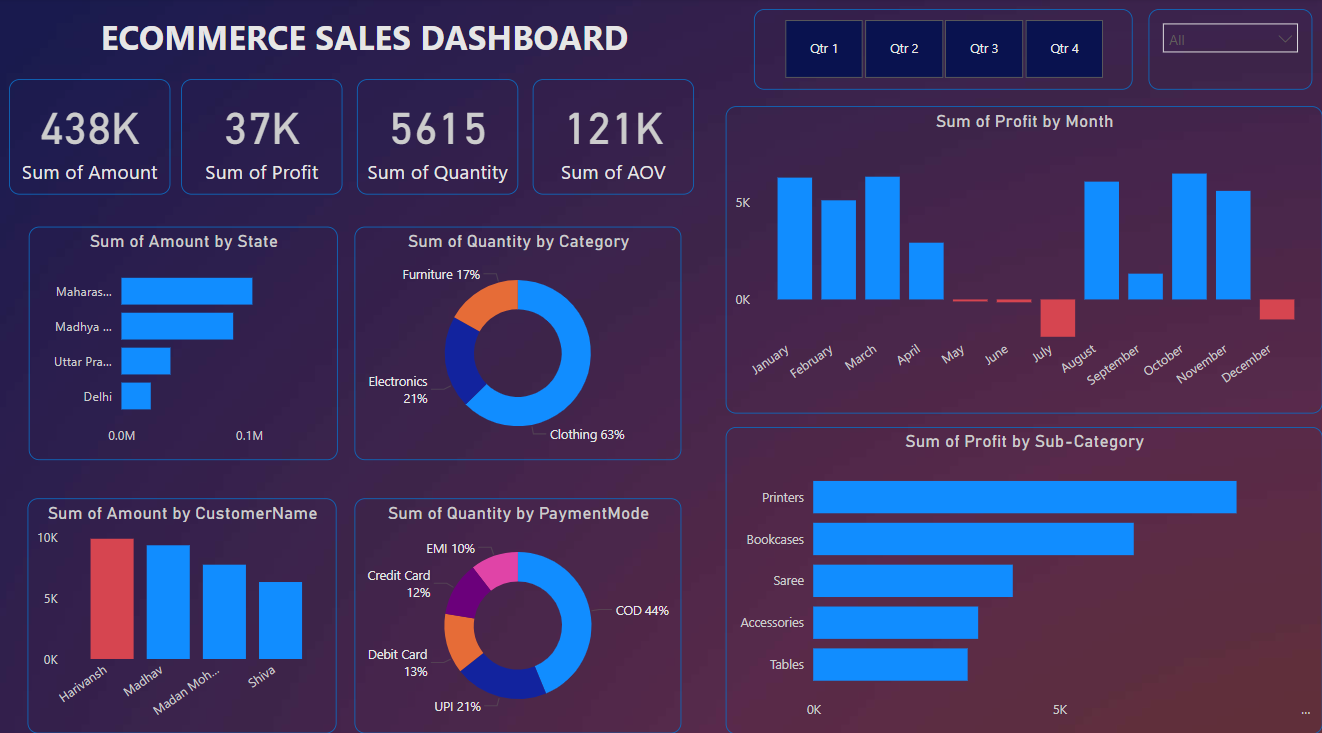

This screenshot's page, from the dashboard's own definition file:
{"tool":"powerbi","page":{"name":"Dashboard","canvas":[1280,720],"ordinal":0},"visuals":[{"type":"textbox","box":[0,10.7,702.4,57.3],"z":0},{"type":"columnChart","fields":{"Y":["Details.Profit"],"Category":["Orders.Order Date.Variation.Date Hierarchy.Month"]},"box":[697,104,571.8,294.5],"z":1000},{"type":"clusteredBarChart","fields":{"Category":["Details.Sub-Category"],"Y":["Details.Profit"]},"box":[697,410.5,571.8,294.5],"z":2000},{"type":"card","fields":{"Values":["Details.Amount"]},"box":[10.7,77.3,154.6,110.6],"z":3000},{"type":"card","fields":{"Values":["Details.Profit"]},"box":[175.9,77.3,154.6,110.6],"z":4000},{"type":"card","fields":{"Values":["Details.Quantity"]},"box":[343.9,77.3,154.6,110.6],"z":5000},{"type":"donutChart","fields":{"Y":["Details.Quantity"],"Category":["Details.Category"]},"box":[341.2,218.6,313.2,223.9],"z":6000},{"type":"donutChart","fields":{"Y":["Details.Quantity"],"Category":["Details.PaymentMode"]},"box":[341.2,479.8,313.2,225.2],"z":7000},{"type":"card","fields":{"Values":["Details.AOV"]},"box":[511.8,77.3,154.6,110.6],"z":8000},{"type":"clusteredBarChart","fields":{"Category":["Orders.State"],"Y":["Details.Amount"]},"box":[29.3,218.6,295.9,223.9],"z":9000},{"type":"columnChart","fields":{"Category":["Orders.CustomerName"],"Y":["Details.Amount"]},"box":[28,479.8,295.9,225.2],"z":10000},{"type":"slicer","fields":{"Values":["Orders.Order Date.Variation.Date Hierarchy.Quarter"]},"box":[723.7,10.7,362.5,77.3],"z":11000},{"type":"slicer","fields":{"Values":["Orders.State"]},"box":[1102.2,10.7,157.3,77.3],"z":12000}]}

Visuals, with their boxes in screenshot pixels (x1, y1, x2, y2), scaled from the page's 1280x720 canvas onto the 1322x733 screenshot:
textbox: (0, 11, 725, 69)
columnChart - Details.Profit x Orders.Order Date.Variation.Date Hierarchy.Month: (720, 106, 1310, 406)
clusteredBarChart - Details.Sub-Category x Details.Profit: (720, 418, 1310, 718)
card - Details.Amount: (11, 79, 171, 191)
card - Details.Profit: (182, 79, 341, 191)
card - Details.Quantity: (355, 79, 515, 191)
donutChart - Details.Quantity x Details.Category: (352, 223, 676, 450)
donutChart - Details.Quantity x Details.PaymentMode: (352, 488, 676, 718)
card - Details.AOV: (529, 79, 688, 191)
clusteredBarChart - Orders.State x Details.Amount: (30, 223, 336, 450)
columnChart - Orders.CustomerName x Details.Amount: (29, 488, 335, 718)
slicer - Orders.Order Date.Variation.Date Hierarchy.Quarter: (747, 11, 1122, 90)
slicer - Orders.State: (1138, 11, 1301, 90)
